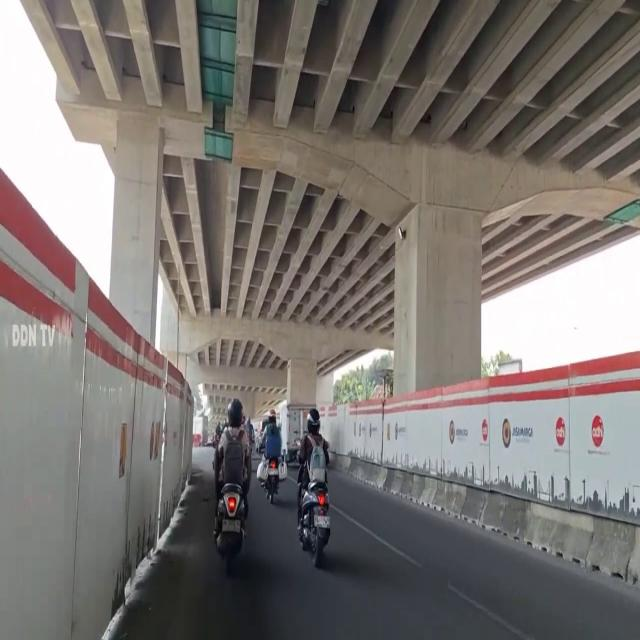WithHelmet: (213, 398, 251, 534), (296, 407, 330, 531), (260, 410, 282, 488)
